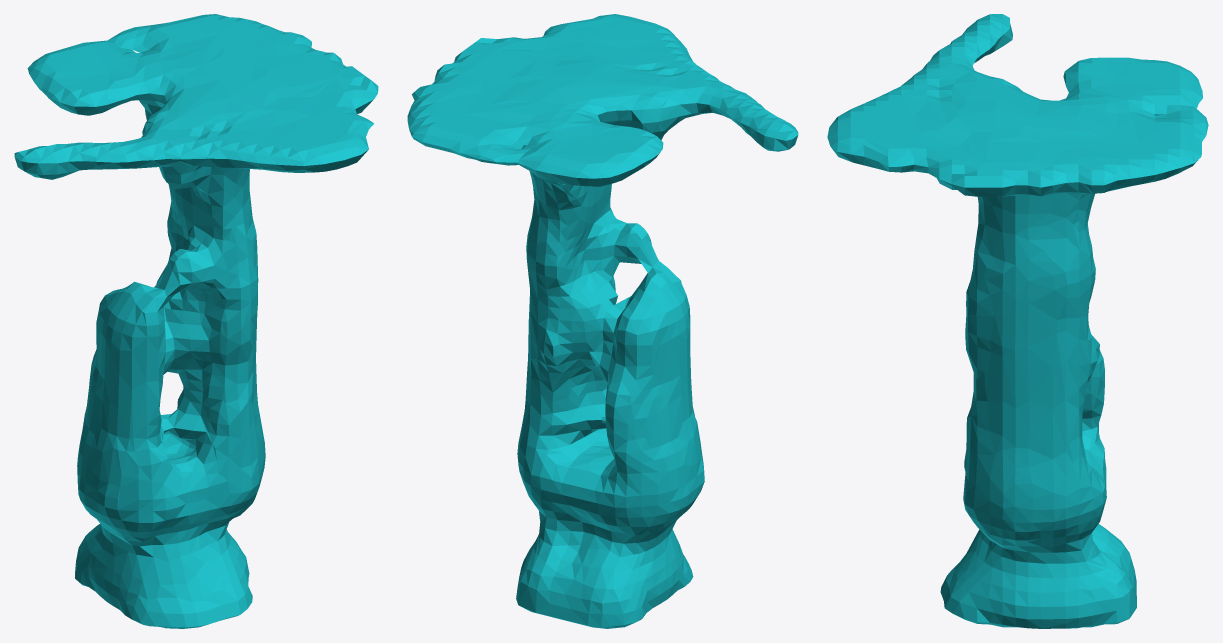
The picture shows the model from 3 angles, left to right: view 1: azimuth 30°, elevation 25°; view 2: azimuth 150°, elevation 25°; view 3: azimuth 270°, elevation 25°; orthographic projection. The views are drawn at different scales.
Parts seen in each view (by area): view 1: Liquid_Domain; view 2: Liquid_Domain; view 3: Liquid_Domain.
Boxes of the visible parts, x1,y1,x2,y2 form: Liquid_Domain: (14, 14, 378, 628); Liquid_Domain: (407, 14, 798, 628); Liquid_Domain: (827, 14, 1208, 628).
Size of the model in its own units: 77.07 by 108 by 72.35.
